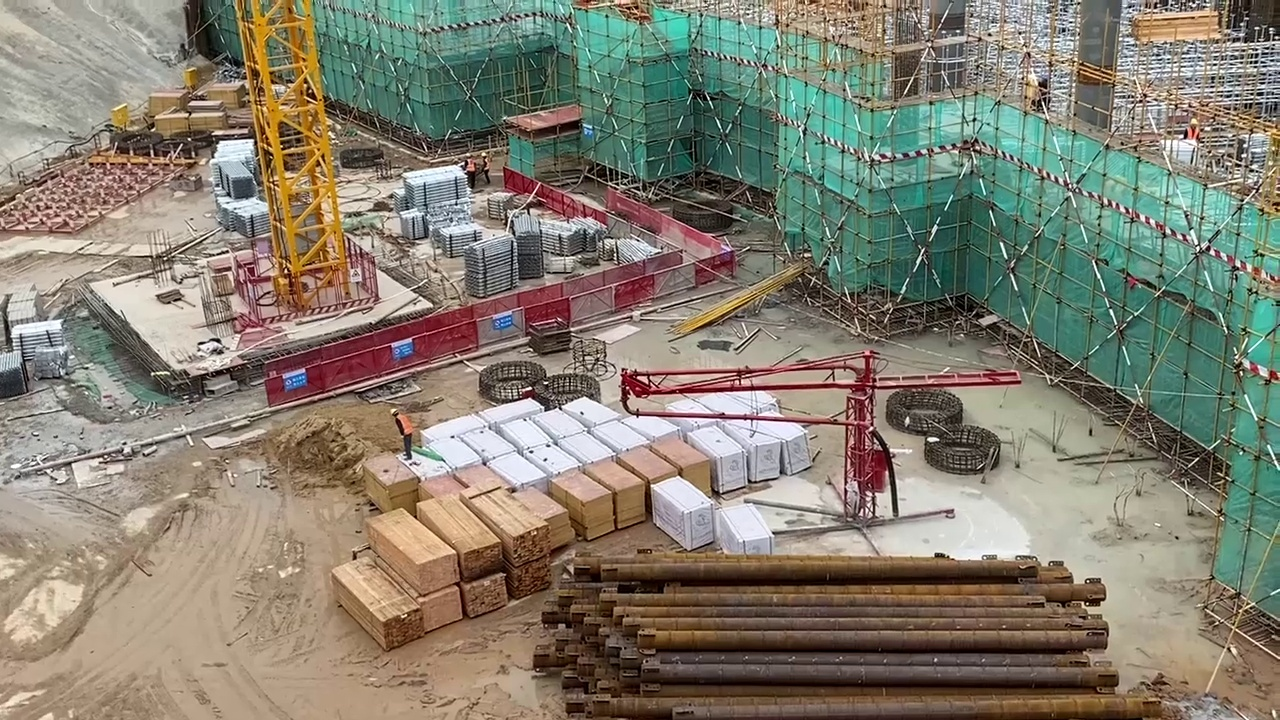board: (547, 471, 616, 545), (588, 458, 646, 530), (657, 436, 714, 495), (364, 453, 415, 511), (516, 482, 571, 522), (623, 445, 674, 483)
fence: (266, 318, 440, 405), (440, 300, 522, 351), (673, 233, 740, 282), (523, 282, 612, 317), (609, 265, 683, 301)
person: (386, 408, 414, 466), (1183, 113, 1201, 147), (463, 153, 477, 194), (478, 150, 491, 186)
rebar: (540, 551, 1158, 720)
scaffold: (465, 238, 518, 296), (510, 213, 543, 278), (218, 196, 268, 236), (403, 171, 466, 202), (5, 323, 64, 355), (217, 160, 256, 203), (541, 219, 587, 252), (440, 223, 483, 251), (612, 237, 657, 263), (1, 354, 27, 398), (400, 208, 429, 238)
vest: (398, 413, 411, 435)
wood: (428, 497, 549, 607), (371, 516, 462, 633), (334, 560, 423, 652)
